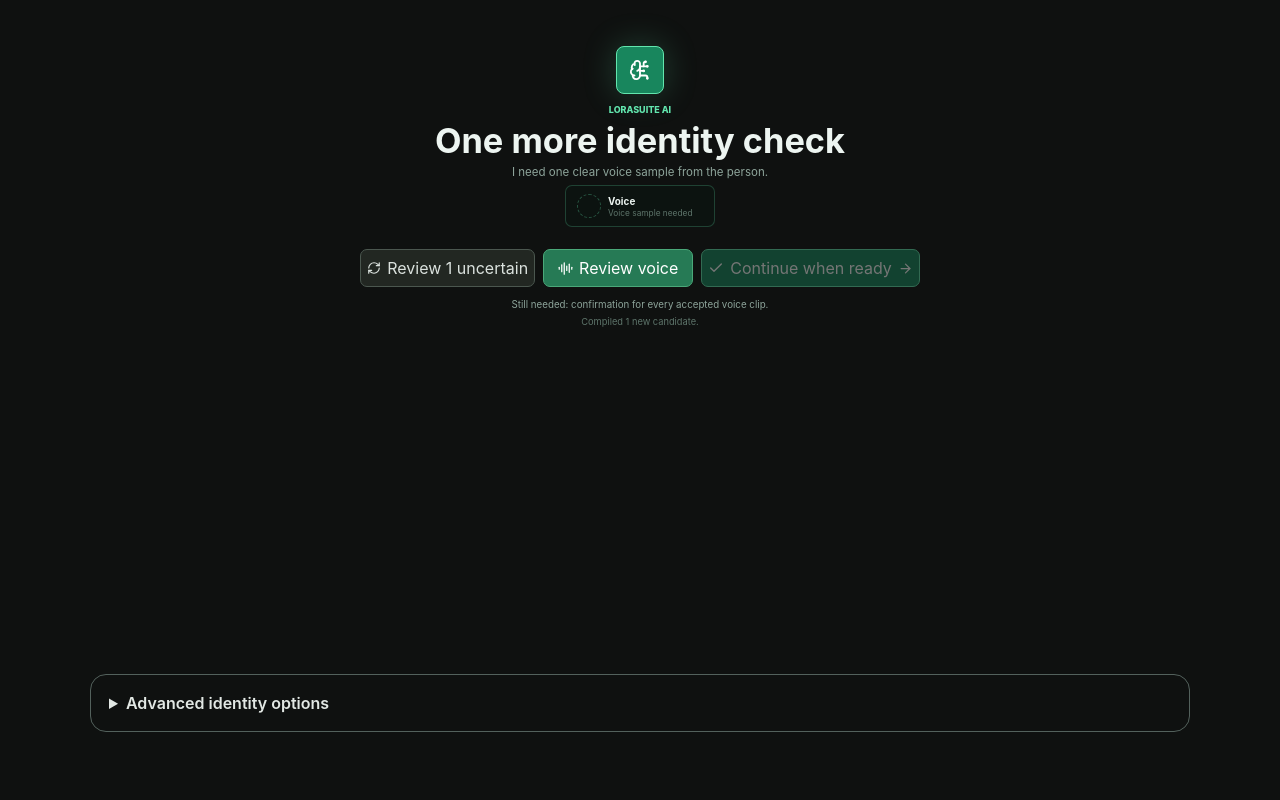
Scenario: IdentifyTab › uses the source video poster as artwork for guided voice candidates
What coordinates should you click on to do the following:
click the button "Review voice"
I would click on:
 (618, 268)
Its box is [543, 249, 693, 287].
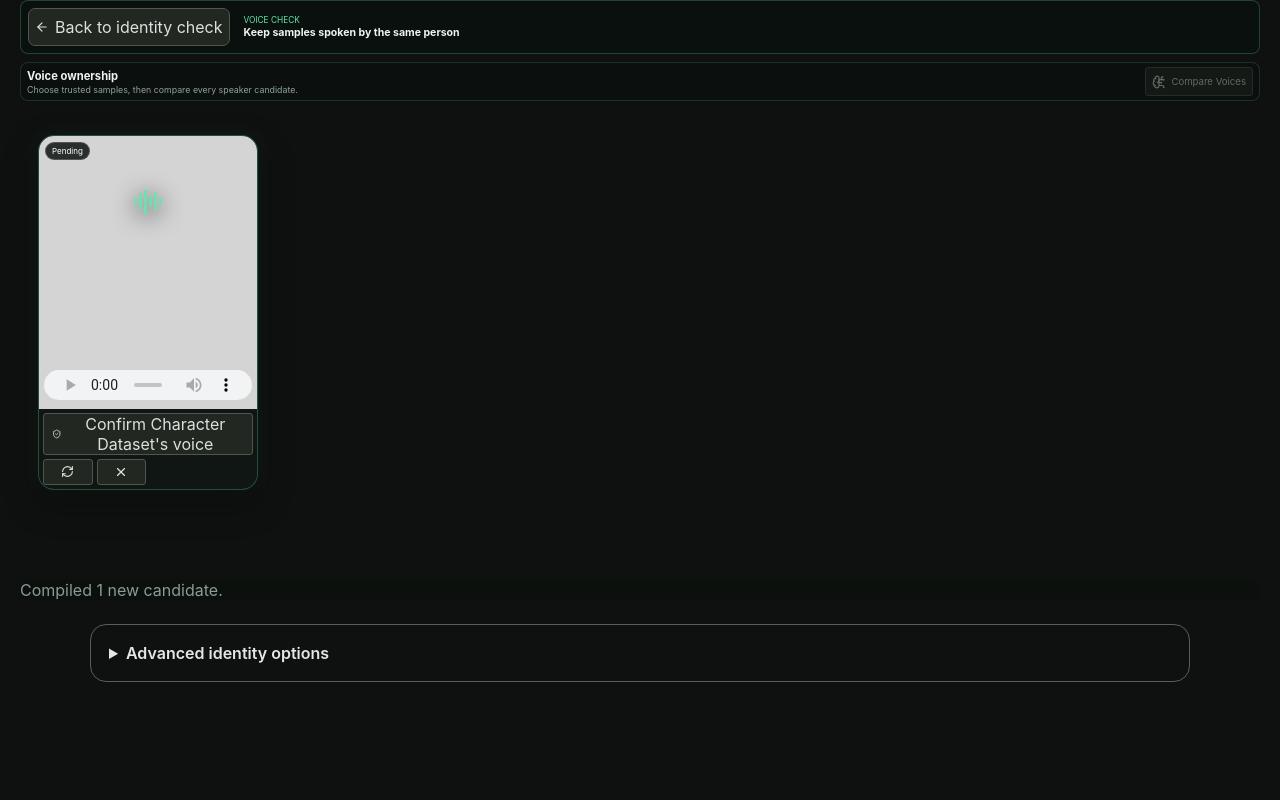
Expected: the text "Keep samples spoken by the same person" is shown, [244, 26, 460, 39]
